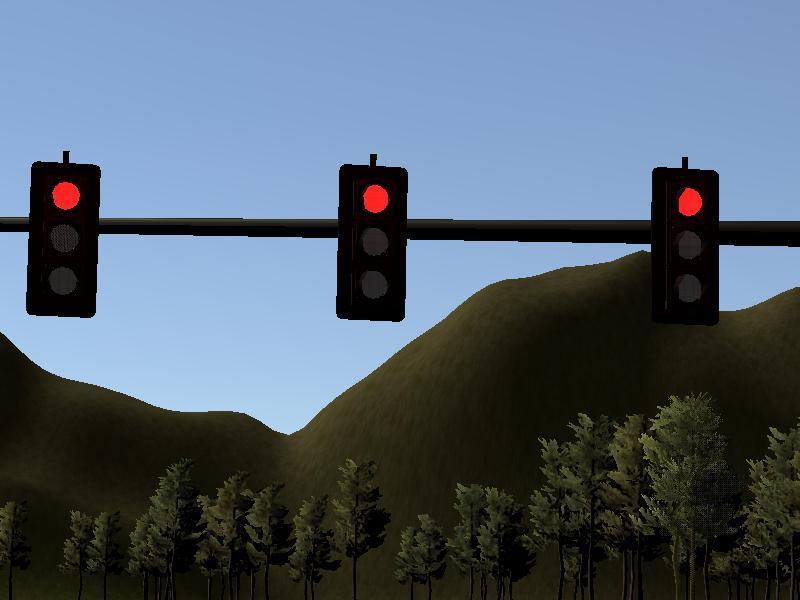Red: (29, 163, 99, 316), (337, 168, 407, 321), (650, 170, 720, 323)
